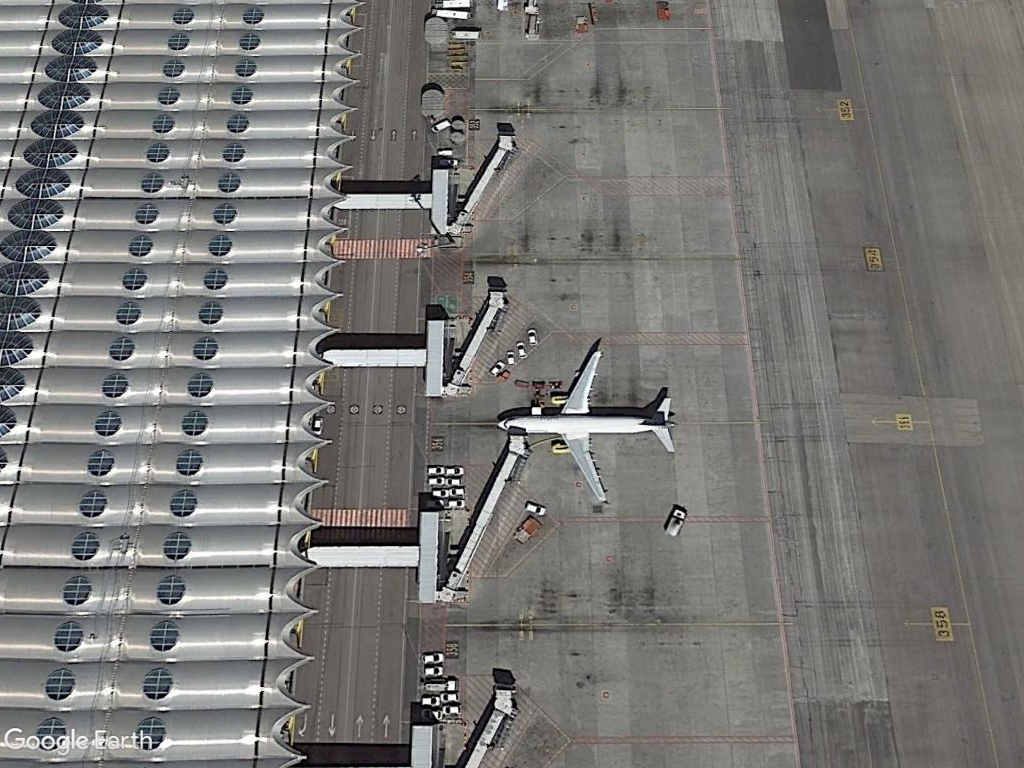airliner: (496, 346, 677, 504)
